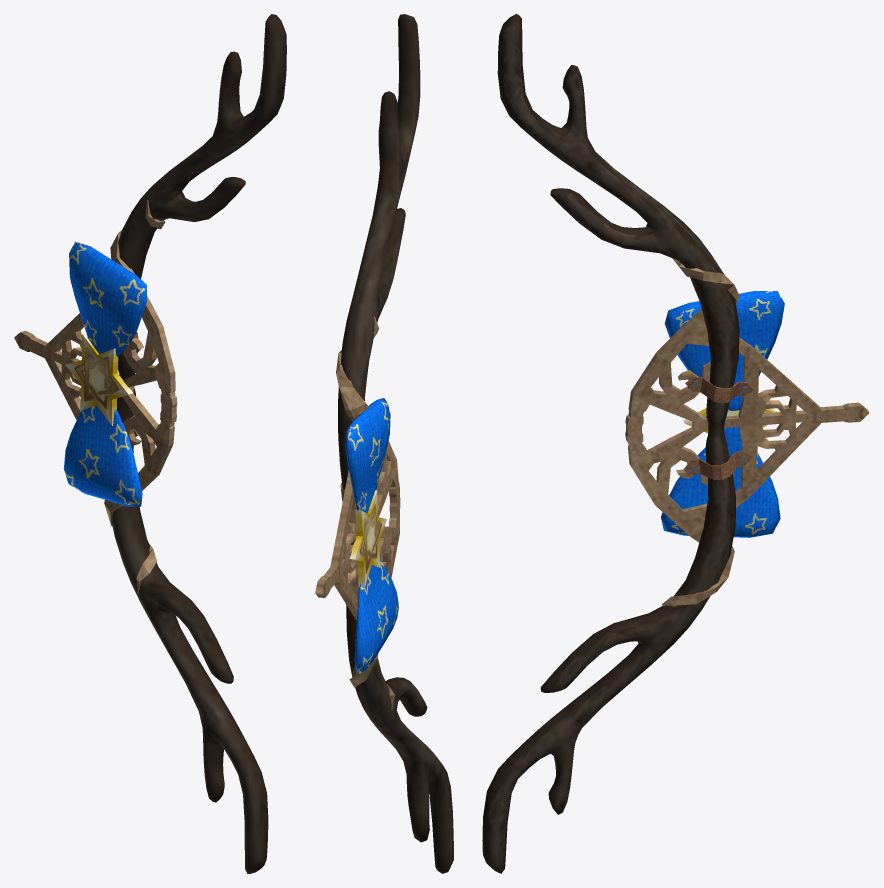
File: BowObject_3d_010.fbx
The picture shows the model from 3 angles, left to right: view 1: azimuth 30°, elevation 25°; view 2: azimuth 150°, elevation 25°; view 3: azimuth 270°, elevation 25°; orthographic projection. The views are drawn at different scales.
Visible parts, largest first — view 1: bow; view 2: bow; view 3: bow.
Part boxes in pixels (left/top/right/bottom): bow: left=14, top=14, right=286, bottom=873; bow: left=315, top=14, right=453, bottom=873; bow: left=482, top=14, right=869, bottom=873.
Bounding box in the file's own units: 0.6253 × 5.22 × 2.1.
